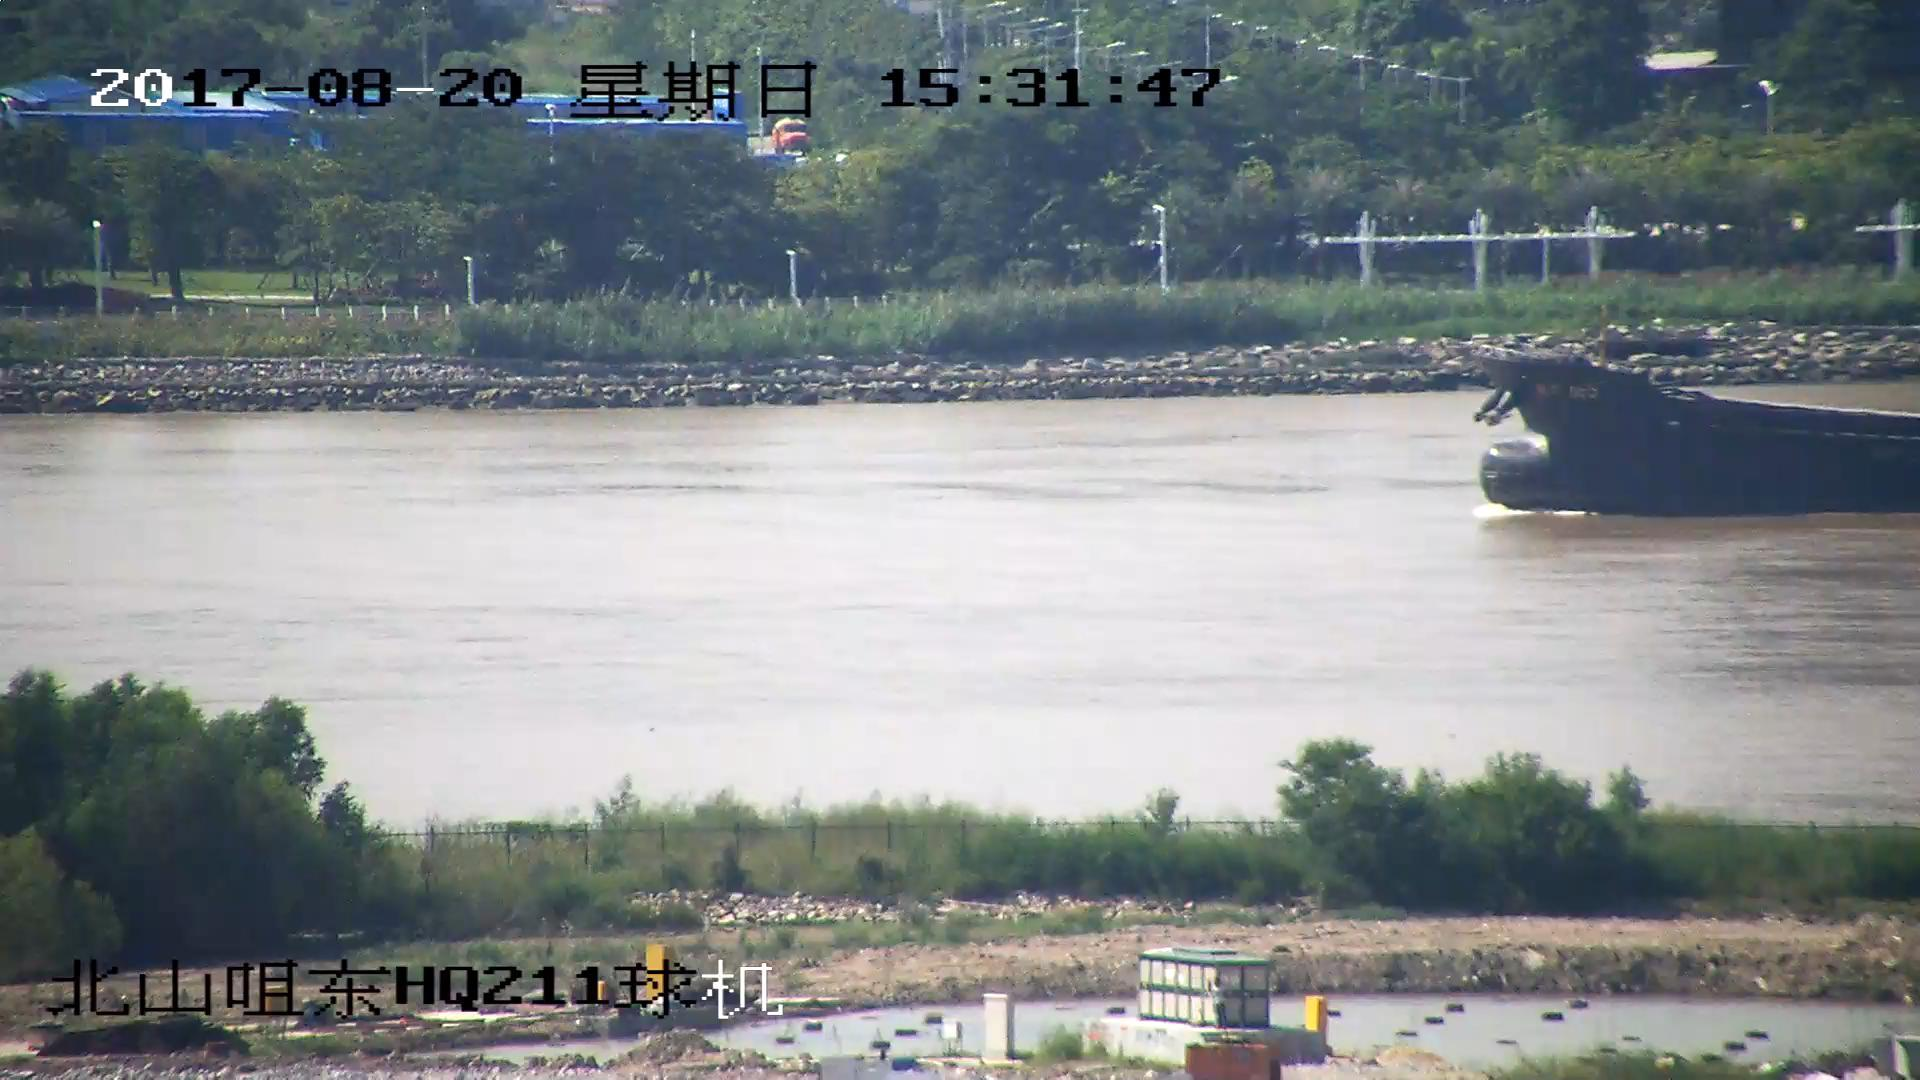Ship: (1447, 343, 1920, 512)
